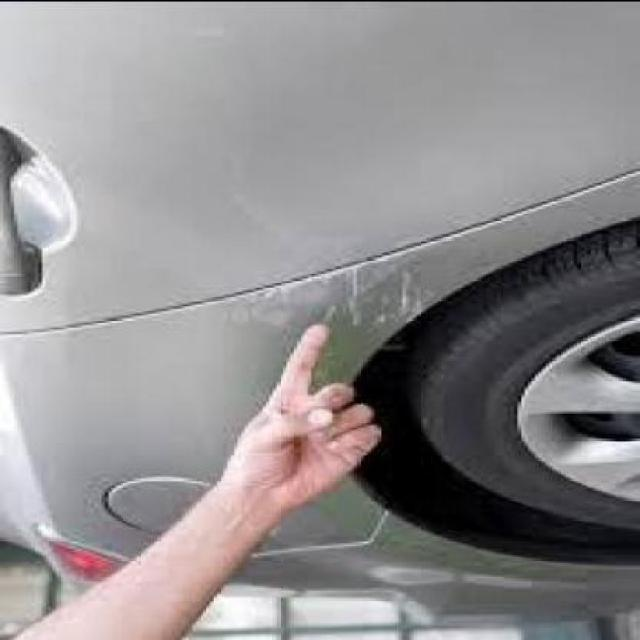damage: (218, 251, 430, 330)
